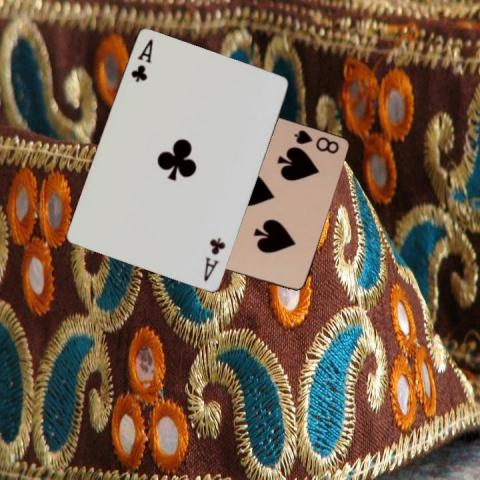8s: (290, 127, 340, 155)
Ac: (128, 37, 155, 84), (200, 235, 226, 283)
